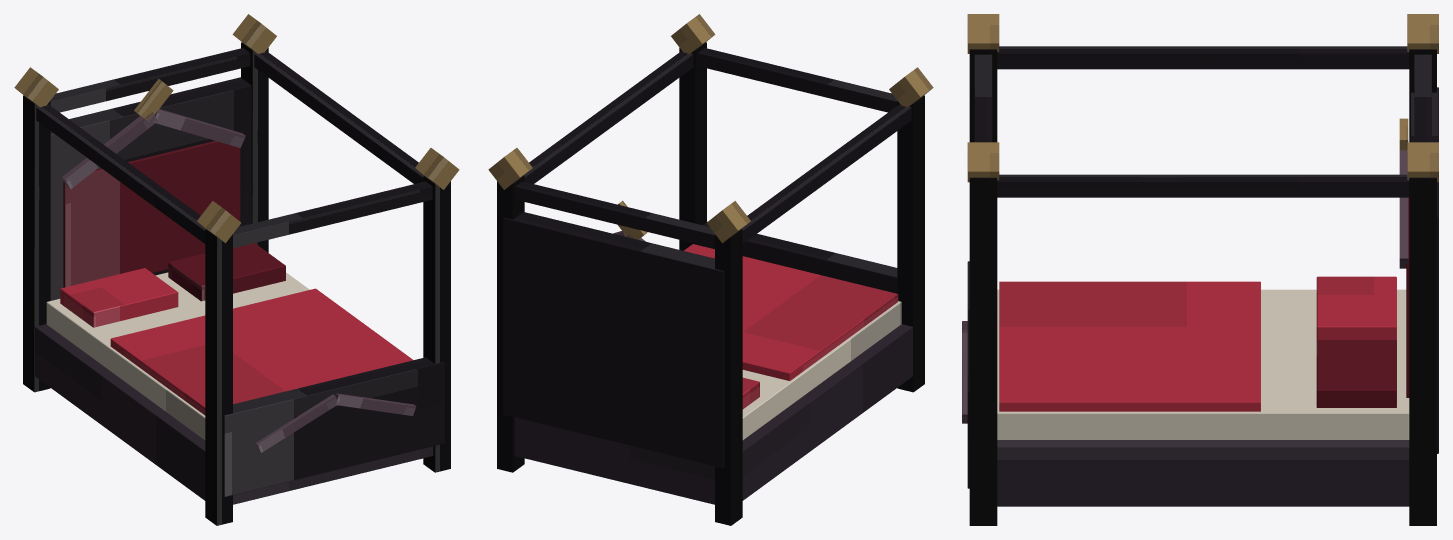
Rendered from gothic_double_bed_crimson.glb.
3 views of the same model, side by side, from view 1: azimuth 30°, elevation 25°; view 2: azimuth 150°, elevation 25°; view 3: azimuth 270°, elevation 25° (orthographic). The views are drawn at different scales.
Visible parts, largest first — view 1: GothicFootboard, GothicBlanket, HeadboardVelvet, GothicBedFrame, TallHeadboard, GothicMattress, FootPostL, HeadPostL, FootPostR, GothicPillow_1, CanopySideL, CanopySideR (+13 smaller); view 2: TallHeadboard, GothicBedFrame, GothicBlanket, FootPostL, HeadPostL, GothicMattress, FootPostR, CanopySideL, CanopySideR, CanopyHeadRail, GothicFootboard, CanopyFootRail (+5 smaller); view 3: GothicBlanket, GothicBedFrame, GothicMattress, FootPostR, CanopySideL, CanopySideR, HeadPostR, GothicPillow_2, GothicPillow_1, CanopyFootRail, CanopyHeadRail, FootPostL (+10 smaller).
Boxes of the visible parts, bbox=[...] form: GothicFootboard: bbox=[223, 357, 444, 496]; GothicBlanket: bbox=[110, 288, 413, 415]; HeadboardVelvet: bbox=[63, 141, 240, 287]; GothicBedFrame: bbox=[35, 324, 433, 504]; TallHeadboard: bbox=[50, 77, 251, 300]; GothicMattress: bbox=[46, 272, 309, 439]; FootPostL: bbox=[205, 229, 232, 525]; HeadPostL: bbox=[23, 95, 50, 392]; FootPostR: bbox=[423, 175, 450, 472]; GothicPillow_1: bbox=[60, 268, 178, 327]; CanopySideL: bbox=[36, 104, 205, 243]; CanopySideR: bbox=[254, 51, 423, 183]; TallHeadboard: bbox=[503, 212, 724, 468]; GothicBedFrame: bbox=[514, 324, 912, 504]; GothicBlanket: bbox=[684, 244, 898, 380]; FootPostL: bbox=[897, 95, 924, 392]; HeadPostL: bbox=[715, 229, 742, 525]; GothicMattress: bbox=[742, 301, 901, 439]; FootPostR: bbox=[679, 42, 706, 250]; CanopySideL: bbox=[742, 104, 911, 243]; CanopySideR: bbox=[524, 51, 693, 183]; CanopyHeadRail: bbox=[515, 181, 714, 248]; GothicFootboard: bbox=[697, 221, 897, 293]; CanopyFootRail: bbox=[697, 48, 897, 112]; GothicBlanket: bbox=[999, 281, 1260, 411]; GothicBedFrame: bbox=[997, 440, 1409, 506]; GothicMattress: bbox=[997, 289, 1409, 439]; FootPostR: bbox=[969, 177, 997, 525]; CanopySideL: bbox=[997, 46, 1409, 69]; CanopySideR: bbox=[997, 174, 1409, 197]; HeadPostR: bbox=[1409, 177, 1436, 525]; GothicPillow_2: bbox=[1316, 340, 1396, 407]; GothicPillow_1: bbox=[1316, 276, 1396, 340]; CanopyFootRail: bbox=[974, 54, 992, 142]; CanopyHeadRail: bbox=[1414, 54, 1431, 142]; FootPostL: bbox=[969, 49, 997, 142].
Size of the model in its own units: 1.99 by 2.4 by 2.73.
1 material, 1 textured.
